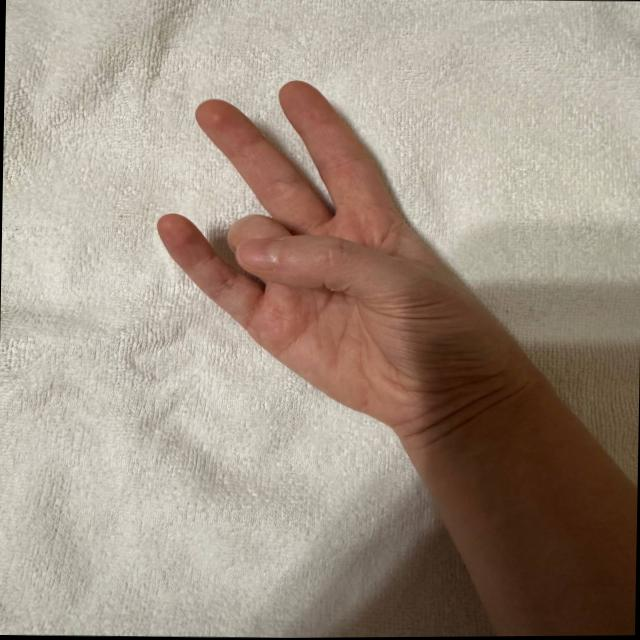n: (110, 77, 489, 393)
